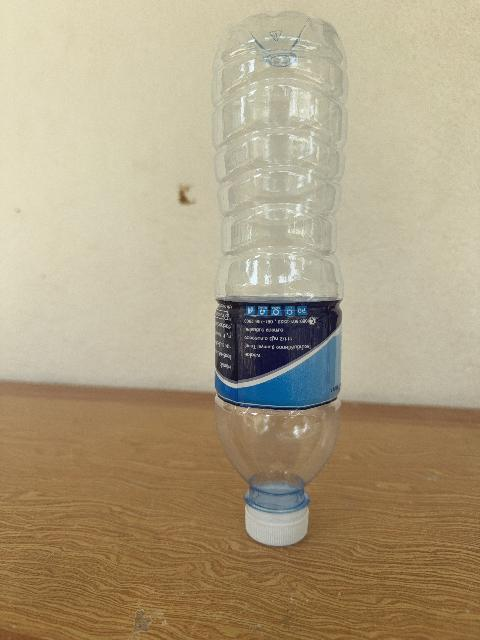bottle: (213, 12, 347, 545)
